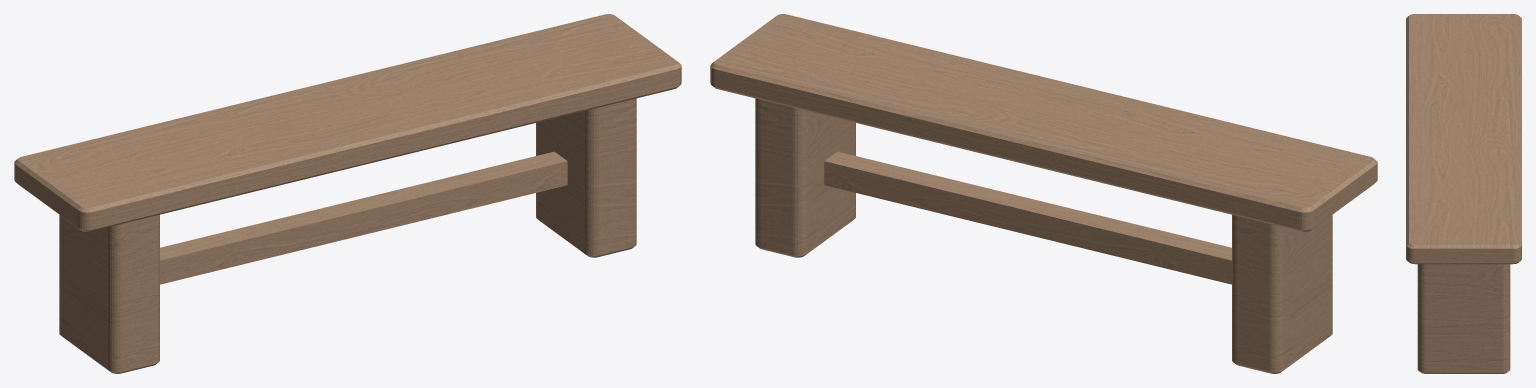
File: furn_com_rm_bench_02.dae
The picture shows the model from 3 angles, left to right: view 1: azimuth 30°, elevation 25°; view 2: azimuth 150°, elevation 25°; view 3: azimuth 270°, elevation 25°; orthographic projection. The views are drawn at different scales.
Visible parts, largest first — view 1: oak; view 2: oak; view 3: oak.
Part boxes in pixels (<box>): oak: <box>14,14,681,373</box>; oak: <box>710,14,1377,373</box>; oak: <box>1406,14,1521,373</box>.
Size of what is drawn, in the model's own units: 131 by 27.51 by 37.61.
